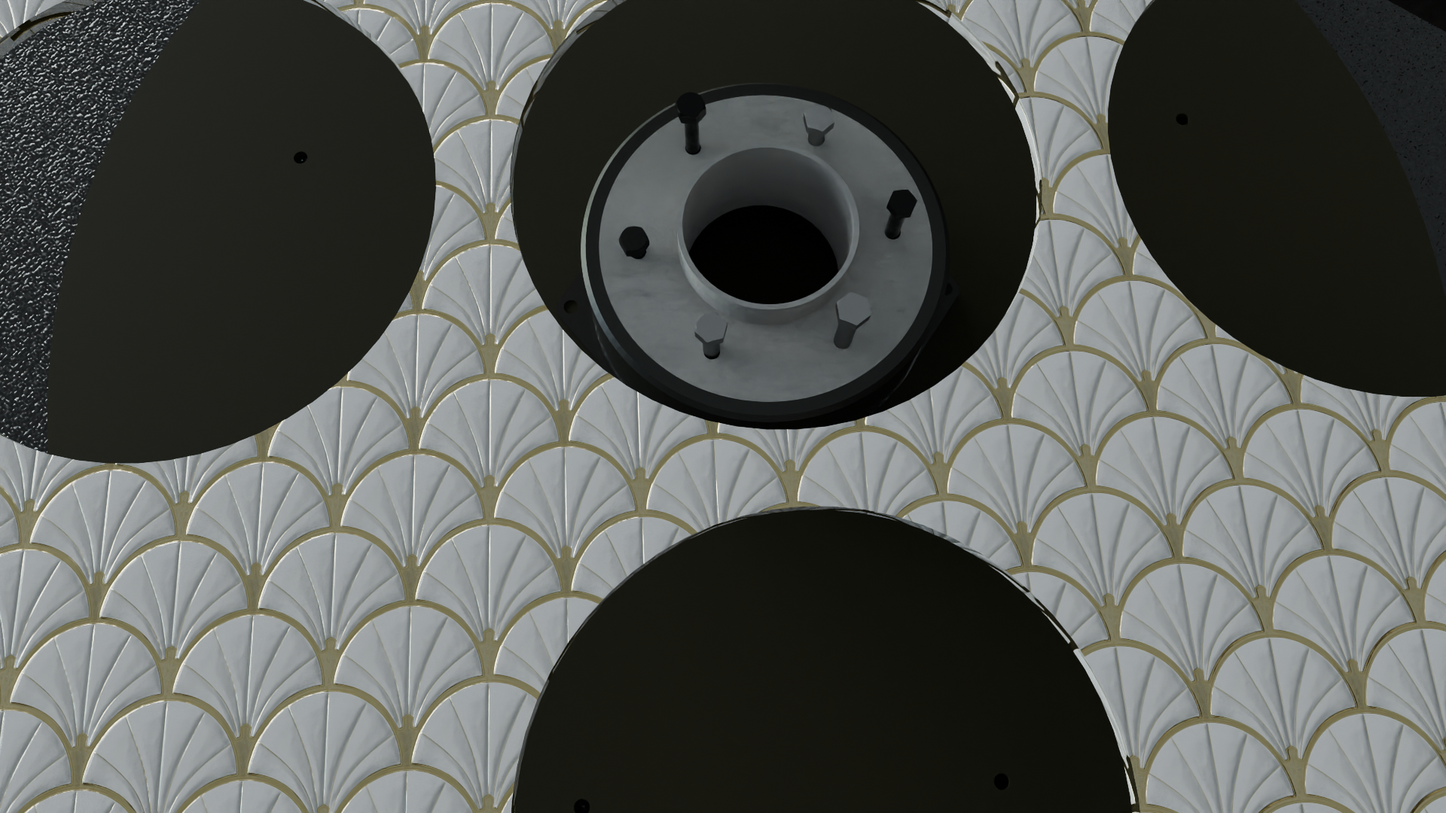bolt: (837, 292, 871, 325), (694, 312, 728, 343), (804, 104, 834, 132), (676, 93, 706, 118), (619, 226, 649, 251), (888, 190, 917, 214)
